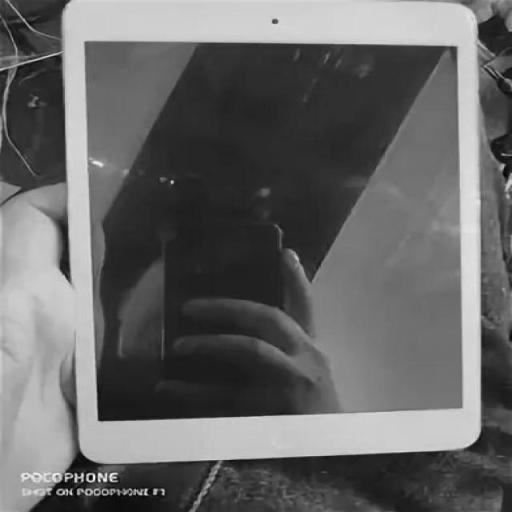phone: (63, 0, 481, 463)
